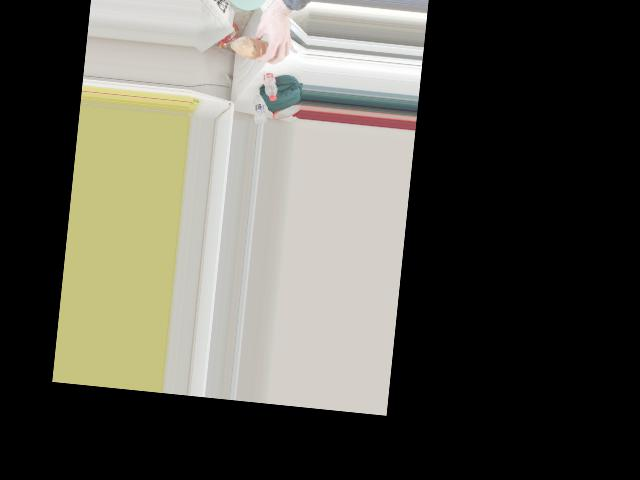sweet_potato: (241, 31, 276, 59)
